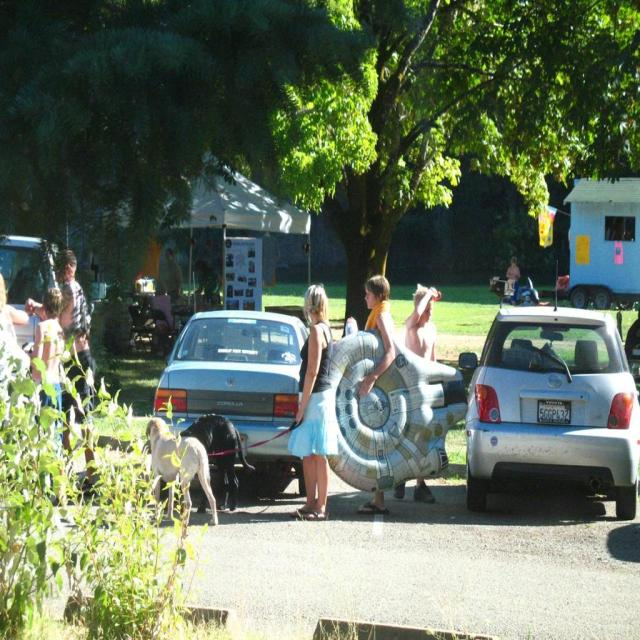car: (458, 292, 636, 514), (151, 308, 315, 494)
